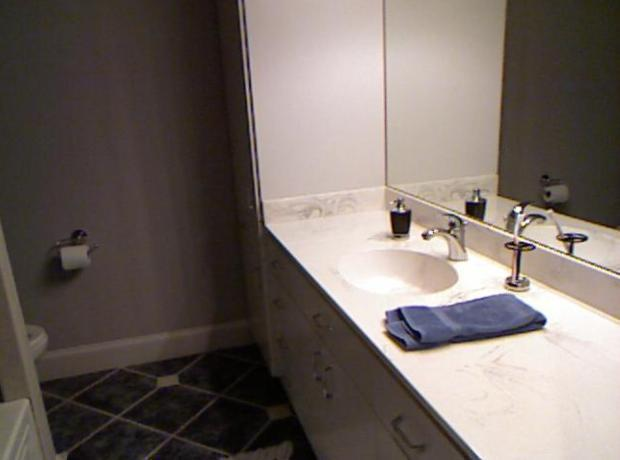Lavamanos: (331, 211, 476, 300)
